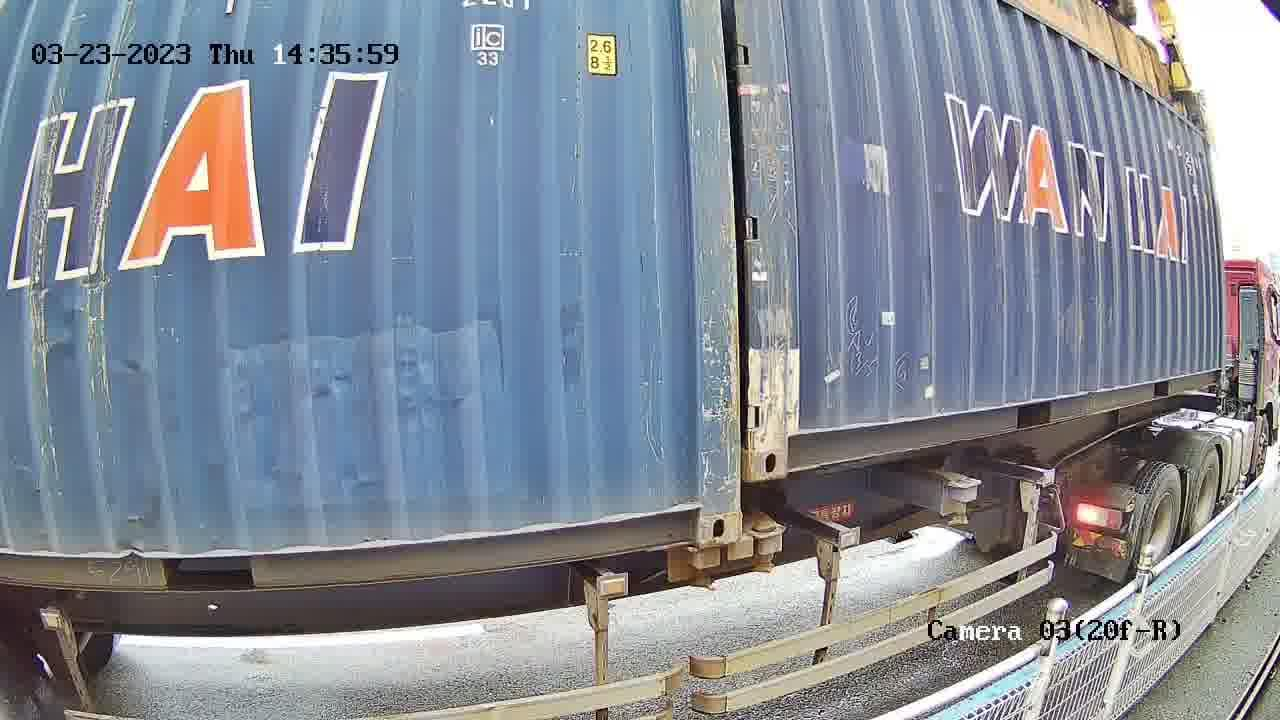Cone: (688, 544, 723, 593), (749, 522, 784, 571)
Hole_L: (748, 404, 821, 480)
Hole_R: (666, 480, 740, 545)
Tire: (1138, 467, 1183, 569), (1189, 450, 1220, 538)
